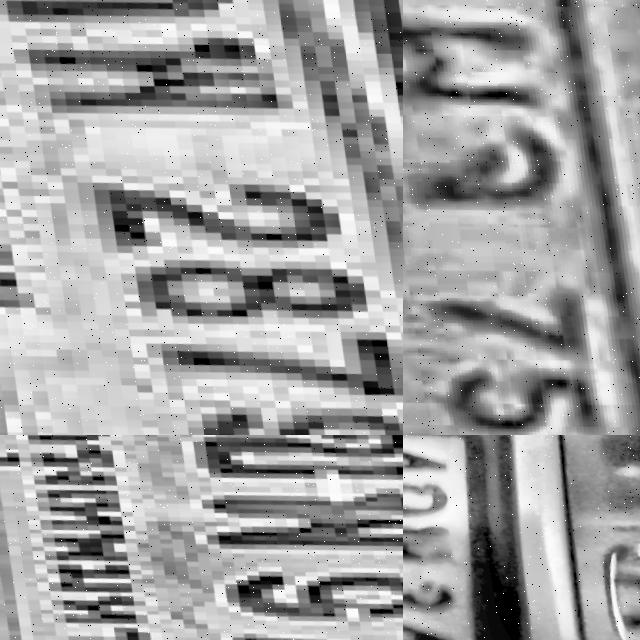license-plate: (0, 0, 403, 435), (403, 0, 640, 435), (0, 435, 403, 640), (403, 435, 492, 640)
